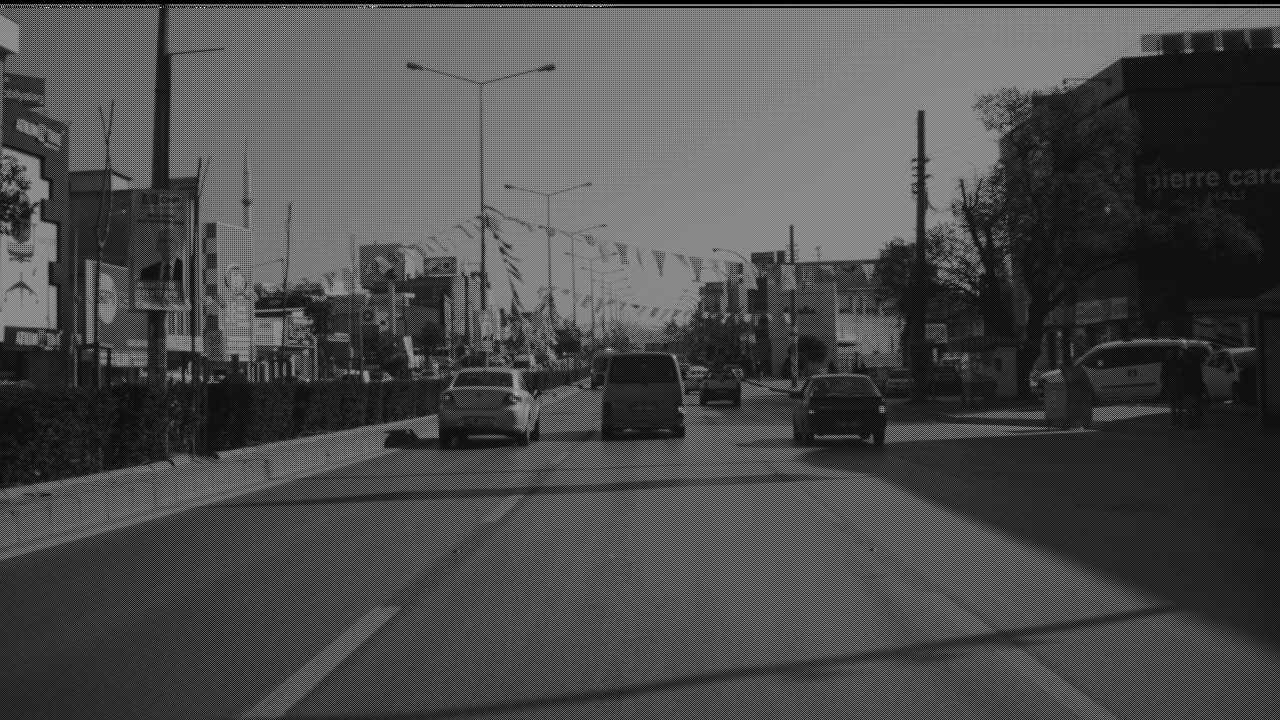pole: (148, 1, 170, 372), (914, 101, 925, 395), (478, 78, 488, 357), (787, 217, 796, 379), (545, 188, 550, 361)
